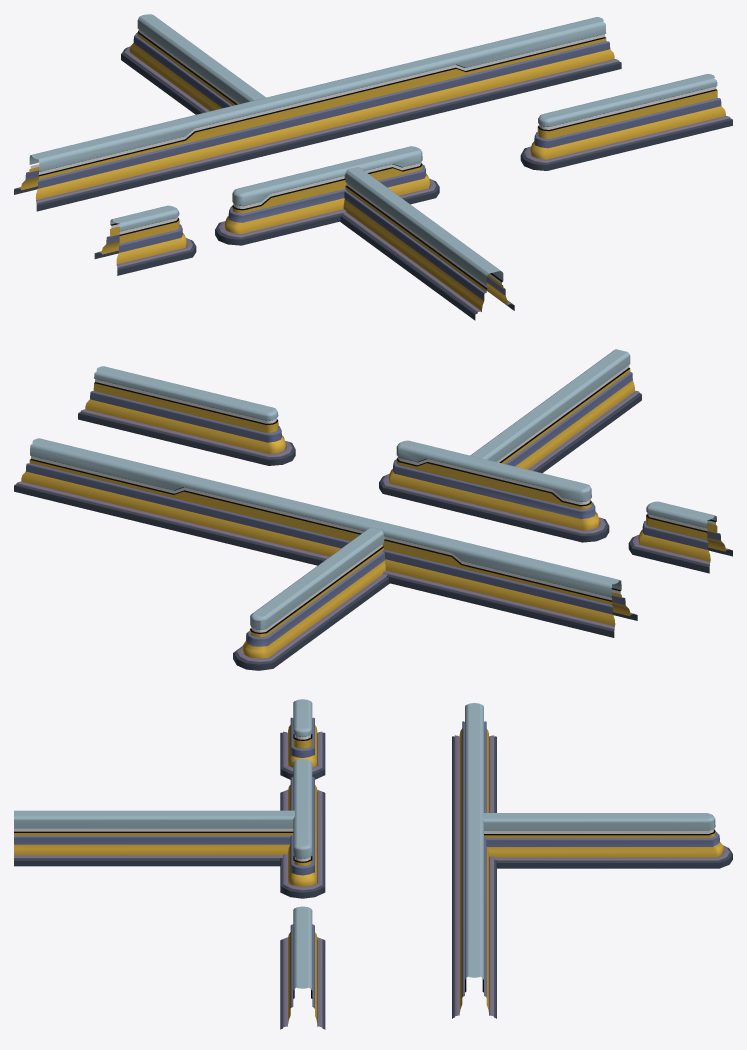
Rendered from SmallWalls.fbx.
3 renders of one model, top to bottom at view 1: azimuth 30°, elevation 25°; view 2: azimuth 150°, elevation 25°; view 3: azimuth 270°, elevation 25°, orthographic. The views are drawn at different scales.
Visible parts, largest first — view 1: Small_wall1, Small_wall3, Small_wall6, Small_wall5, Small_wall2, Small_wall4; view 2: Small_wall1, Small_wall5, Small_wall3, Small_wall2, Small_wall6, Small_wall4; view 3: Small_wall6, Small_wall2, Small_wall1, Small_wall5, Small_wall3, Small_wall4.
Boxes of the visible parts, bbox=[...] form: Small_wall1: bbox=[14, 17, 621, 211]; Small_wall3: bbox=[520, 74, 732, 170]; Small_wall6: bbox=[340, 167, 514, 320]; Small_wall5: bbox=[215, 146, 439, 245]; Small_wall2: bbox=[121, 14, 265, 114]; Small_wall4: bbox=[94, 205, 196, 275]; Small_wall1: bbox=[14, 438, 637, 637]; Small_wall5: bbox=[379, 440, 609, 542]; Small_wall3: bbox=[78, 366, 295, 465]; Small_wall2: bbox=[233, 527, 389, 670]; Small_wall6: bbox=[470, 349, 641, 473]; Small_wall4: bbox=[628, 501, 732, 573]; Small_wall6: bbox=[14, 810, 294, 866]; Small_wall2: bbox=[482, 813, 732, 868]; Small_wall1: bbox=[452, 703, 496, 1018]; Small_wall5: bbox=[280, 759, 325, 898]; Small_wall3: bbox=[280, 906, 325, 1029]; Small_wall4: bbox=[280, 699, 325, 779].
Bounding box in the file's own units: 5385 × 387 × 5509.
